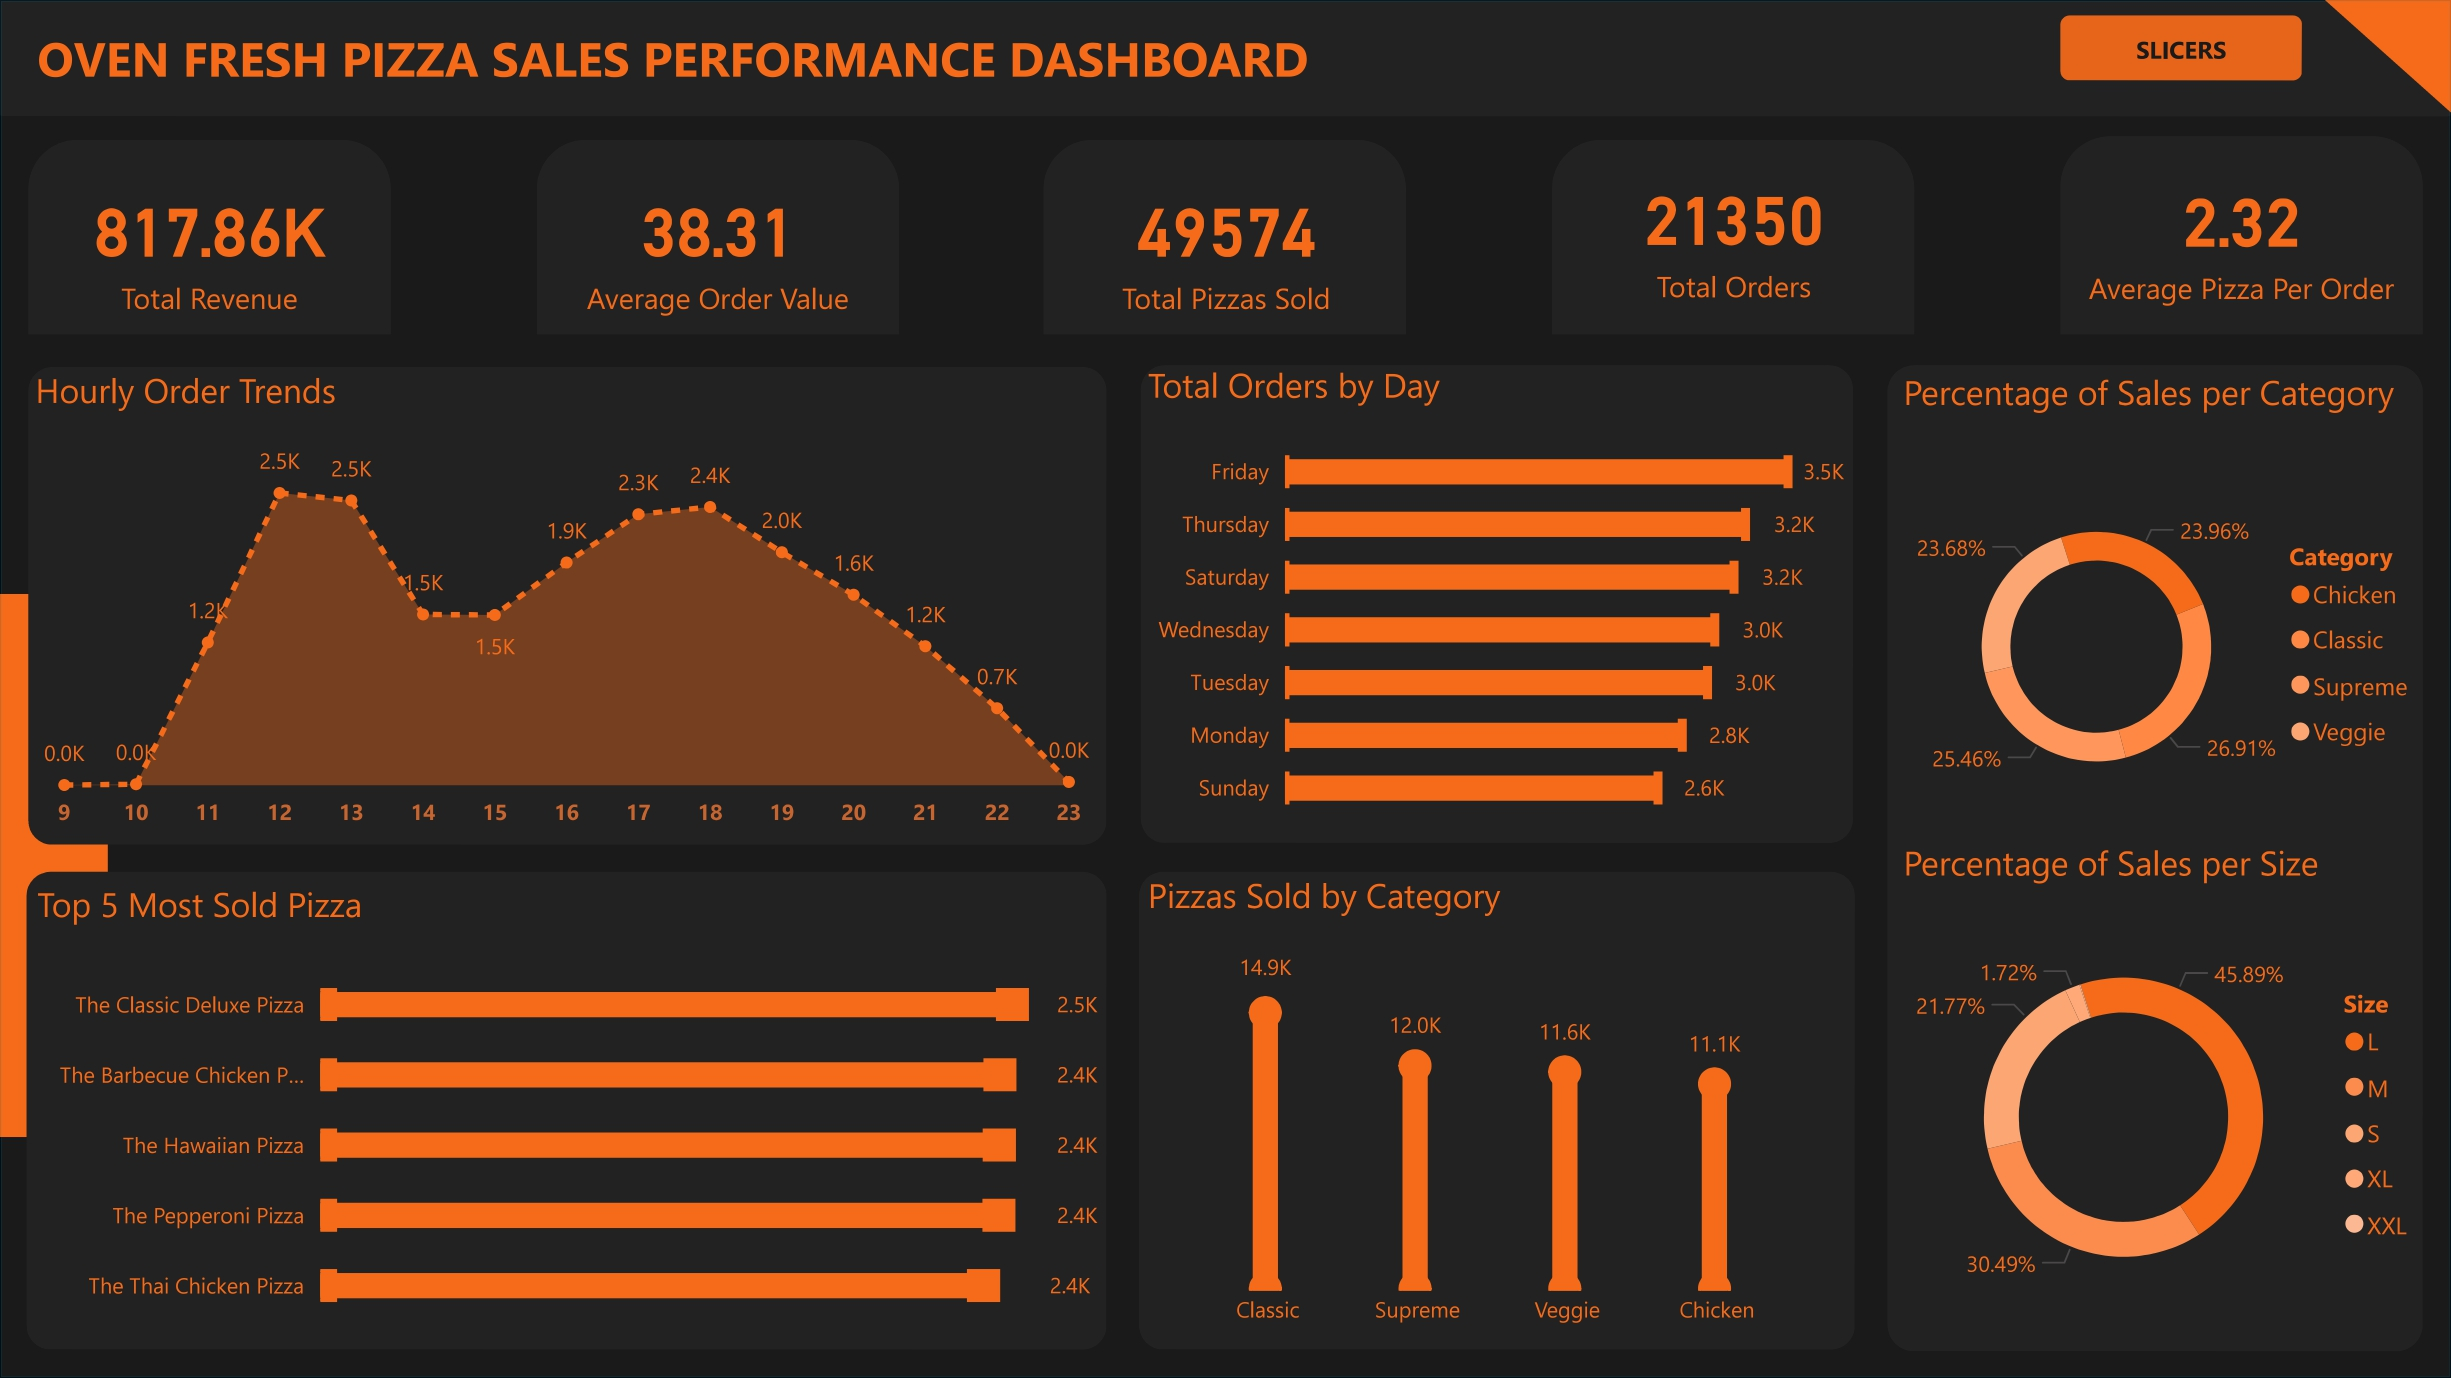

Layout of this report page (visuals, bound fields, positions):
{"tool":"powerbi","page":{"name":"Dashboard","canvas":[1366,768],"ordinal":0},"visuals":[{"type":"shape","box":[0,331.5,62.9,300],"z":0},{"type":"shape","box":[0,0,1366.2,66.3],"z":1000},{"type":"textbox","box":[19.4,9.7,723.5,48.4],"z":2000},{"type":"shape","box":[18.7,78.7,201,108.8],"z":3000},{"type":"shape","box":[300.6,78.7,201,108.8],"z":4000},{"type":"shape","box":[582.5,78.7,201,108.8],"z":5000},{"type":"shape","box":[864.4,78.7,201,108.8],"z":6000},{"type":"shape","box":[1146.3,77.5,201.2,109.4],"z":7000},{"type":"shape","box":[1050.1,204.5,297.3,546],"z":8000},{"type":"shape","box":[19.2,204.8,597.9,265],"z":9000},{"type":"shape","box":[635.6,204.5,395.7,265],"z":10000},{"type":"shape","box":[635,485.2,396.9,265],"z":11000},{"type":"shape","box":[17.9,485.2,599.1,265],"z":12000},{"type":"card","fields":{"Values":["Table.Total Revenue"]},"box":[18.8,84,201.2,108.3],"z":13000},{"type":"card","fields":{"Values":["KPI's.Average Order Value"]},"box":[300.7,84,201.2,108.3],"z":14000},{"type":"card","fields":{"Values":["KPI's.Total Pizzas Sold"]},"box":[582.5,84,201.2,108.3],"z":15000},{"type":"card","fields":{"Values":["KPI's.Total Orders"]},"box":[864.4,77.4,201.2,108.3],"z":16000},{"type":"card","fields":{"Values":["KPI's.Average Pizza Per Order"]},"box":[1146.3,78.5,201.2,108.3],"z":17000},{"type":"barChart","title":"Total Orders by Day","fields":{"Category":["public orders.Day of Week"],"Y":["KPI's.Total Orders"]},"box":[635.1,201.9,396.1,265.1],"z":18000},{"type":"lineChart","title":"Hourly Order Trends","fields":{"Y":["KPI's.Total Orders"],"Category":["public orders.Order Hour"]},"box":[17.9,204.8,599.1,265],"z":19000},{"type":"shape","box":[1290.9,0,75,66.5],"z":20000},{"type":"donutChart","title":"Percentage of Sales per Category","fields":{"Category":["public pizza_types.category"],"Y":["public pizza_types.Percentage of Sales"]},"box":[1053.8,205.7,300,283.1],"z":21000},{"type":"donutChart","title":"Percentage of Sales per Size","fields":{"Category":["public pizzas.size"],"Y":["public pizzas.Percentage of Sales by Size"]},"box":[1053.8,467,300,283.1],"z":22000},{"type":"columnChart","title":"Pizzas Sold by Category","fields":{"Category":["public pizza_types.category"],"Y":["KPI's.Total Pizzas Sold"]},"box":[635,485.2,391.7,261.2],"z":23000},{"type":"barChart","title":"Top 5 Most Sold Pizza","fields":{"Category":["public pizza_types.name"],"Y":["KPI's.Total Pizzas Sold"]},"box":[19.2,490.3,597.9,261.2],"z":24000},{"type":"actionButton","box":[963.9,15.5,133.7,36.5],"z":27000}]}

Visuals, with their boxes in screenshot pixels (x1, y1, x2, y2), scaled from the page's 1366x768 canvas onto the 2451x1378 screenshot:
shape: 0/595/113/1133
shape: 0/0/2450/119
textbox: 35/17/1333/104
shape: 34/141/394/336
shape: 539/141/900/336
shape: 1045/141/1406/336
shape: 1551/141/1912/336
shape: 2057/139/2418/335
shape: 1884/367/2418/1347
shape: 34/367/1107/843
shape: 1140/367/1850/842
shape: 1139/871/1852/1346
shape: 32/871/1107/1346
card - Table.Total Revenue: 34/151/395/345
card - KPI's.Average Order Value: 540/151/901/345
card - KPI's.Total Pizzas Sold: 1045/151/1406/345
card - KPI's.Total Orders: 1551/139/1912/333
card - KPI's.Average Pizza Per Order: 2057/141/2418/335
"Total Orders by Day" barChart: 1140/362/1850/838
"Hourly Order Trends" lineChart: 32/367/1107/843
shape: 2316/0/2450/119
"Percentage of Sales per Category" donutChart: 1891/369/2429/877
"Percentage of Sales per Size" donutChart: 1891/838/2429/1346
"Pizzas Sold by Category" columnChart: 1139/871/1842/1339
"Top 5 Most Sold Pizza" barChart: 34/880/1107/1348
actionButton: 1730/28/1969/93
